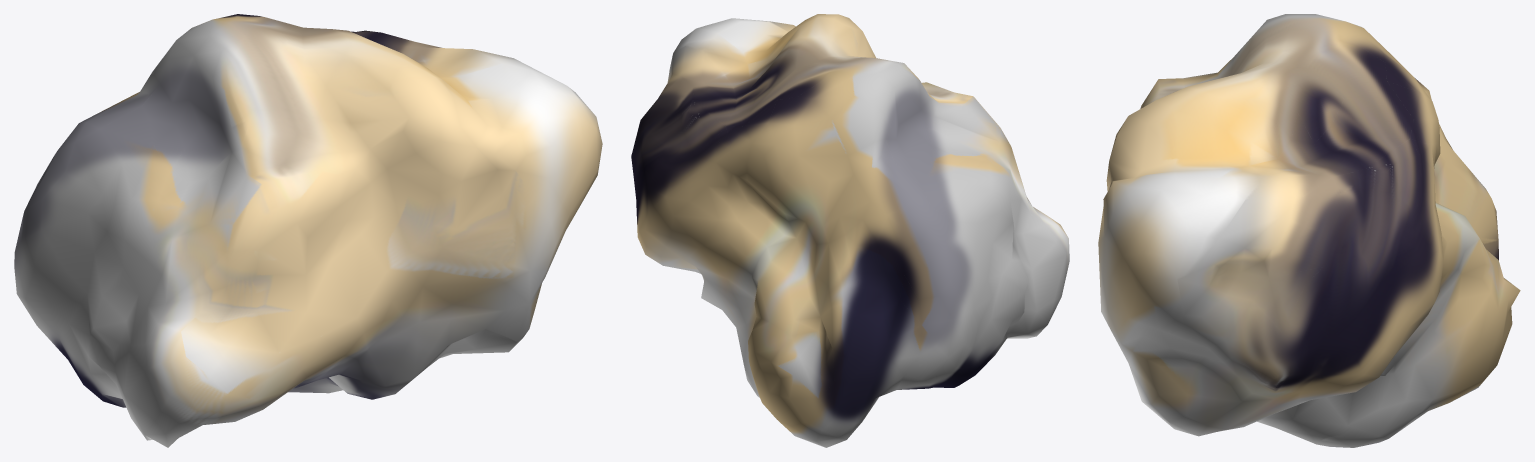
The model's file is eifieifieif.glb.
3 views of the same model, side by side, from view 1: azimuth 30°, elevation 25°; view 2: azimuth 150°, elevation 25°; view 3: azimuth 270°, elevation 25° (orthographic). The views are drawn at different scales.
Parts seen in each view (by area): view 1: Cube; view 2: Cube; view 3: Cube.
Part boxes in pixels (bbox=[...]): Cube: bbox=[14, 14, 602, 447]; Cube: bbox=[631, 14, 1069, 447]; Cube: bbox=[1098, 14, 1520, 447].
Bounding box in the file's own units: 4.69 × 3.89 × 3.83.
Materials: 1 (1 with a texture image).
